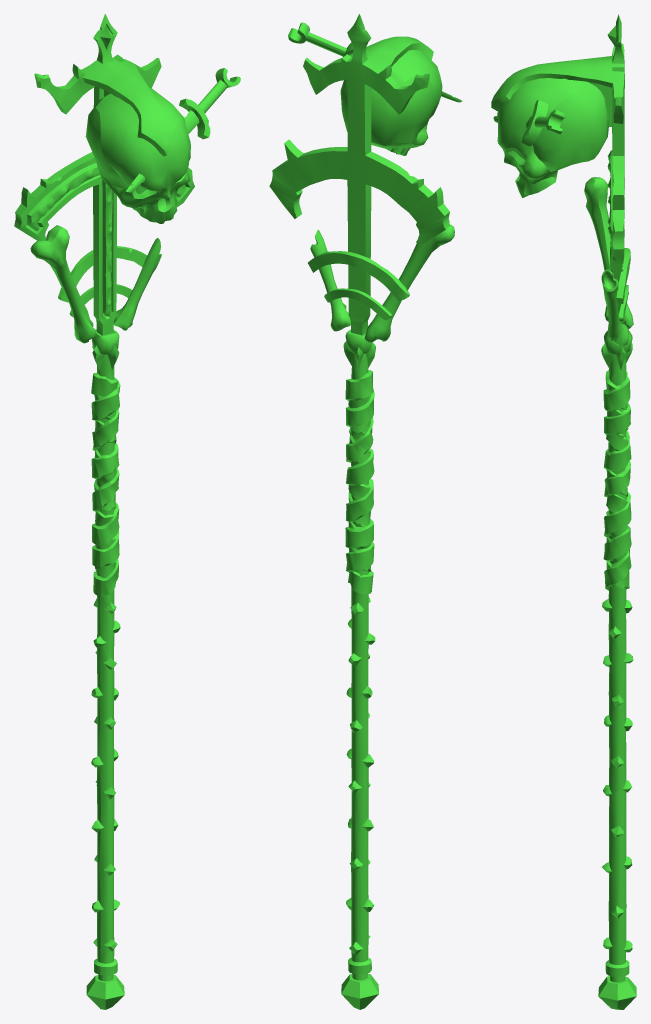
Rendered from SM_Undead_Staff_1.fbx.
3 renders of one model, left to right at view 1: azimuth 30°, elevation 25°; view 2: azimuth 150°, elevation 25°; view 3: azimuth 270°, elevation 25°, orthographic.
Visible parts, largest first — view 1: SM_Undead_Staff_1; view 2: SM_Undead_Staff_1; view 3: SM_Undead_Staff_1.
Boxes of the visible parts, <box> form: SM_Undead_Staff_1: <box>14,14,240,1009</box>; SM_Undead_Staff_1: <box>269,14,461,1009</box>; SM_Undead_Staff_1: <box>491,14,636,1009</box>.
Bounding box in the file's own units: 0.3976 × 1.98 × 0.2622.
